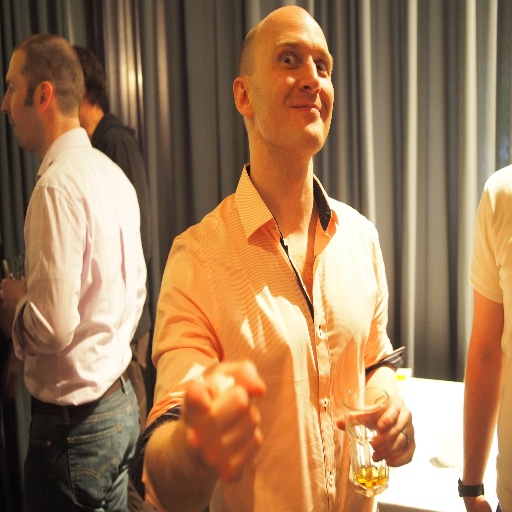hand: (167, 352, 279, 481), (333, 386, 416, 469), (0, 275, 26, 321), (464, 494, 494, 511)
